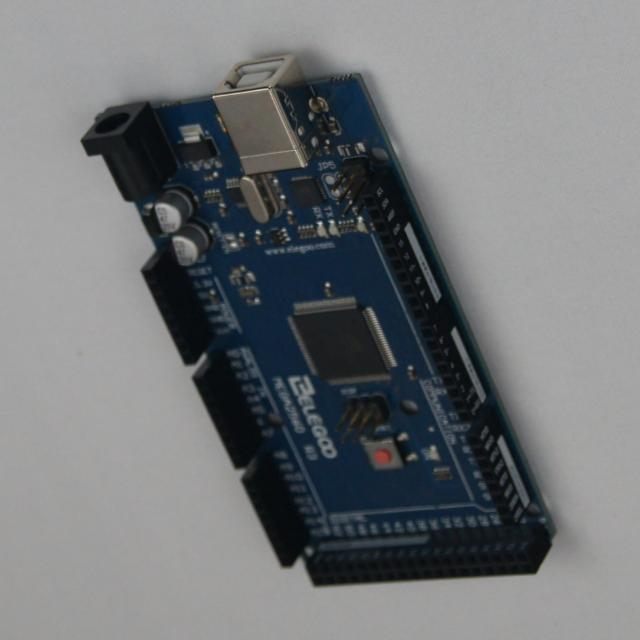Arduino Mega 2560 -Blue-: (82, 56, 553, 586)
